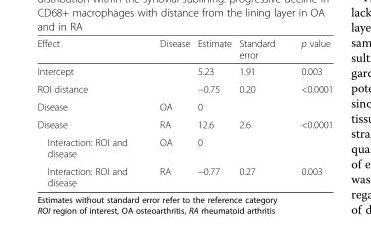table: (36, 37, 332, 187)
table column: (36, 37, 142, 187), (234, 37, 287, 187), (142, 37, 193, 187), (287, 37, 332, 187), (193, 37, 234, 187)
table column header: (36, 37, 332, 62)
table row: (36, 132, 332, 161), (36, 161, 332, 187), (36, 37, 332, 62), (36, 79, 332, 97), (36, 97, 332, 115), (36, 62, 332, 79), (36, 115, 332, 132)
